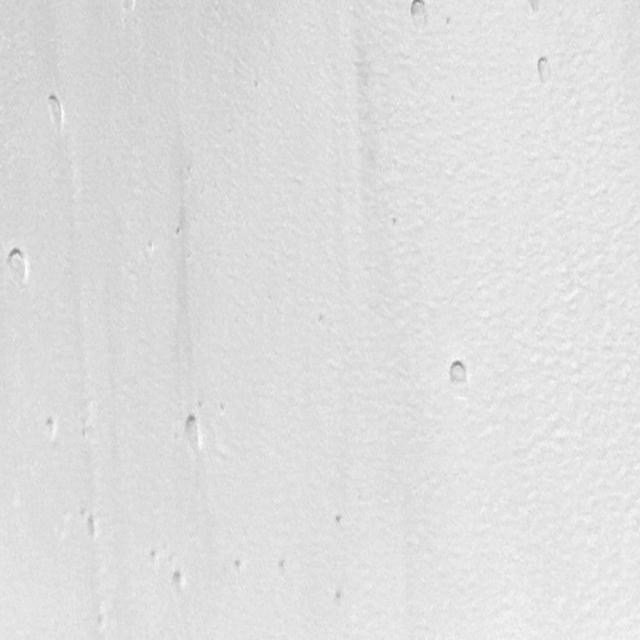pin holes: (40, 90, 68, 135), (4, 246, 33, 288), (179, 414, 205, 454), (446, 356, 472, 389), (532, 55, 554, 86), (407, 0, 429, 27), (40, 414, 60, 443), (81, 515, 101, 542), (312, 308, 332, 330), (168, 570, 186, 594), (526, 0, 546, 20), (142, 238, 157, 262), (118, 0, 140, 16), (390, 215, 406, 232), (94, 612, 108, 630), (333, 512, 348, 528), (276, 557, 290, 574), (218, 401, 232, 417), (334, 588, 346, 606), (148, 548, 160, 565), (233, 558, 245, 574), (442, 16, 457, 28), (172, 226, 184, 240)
